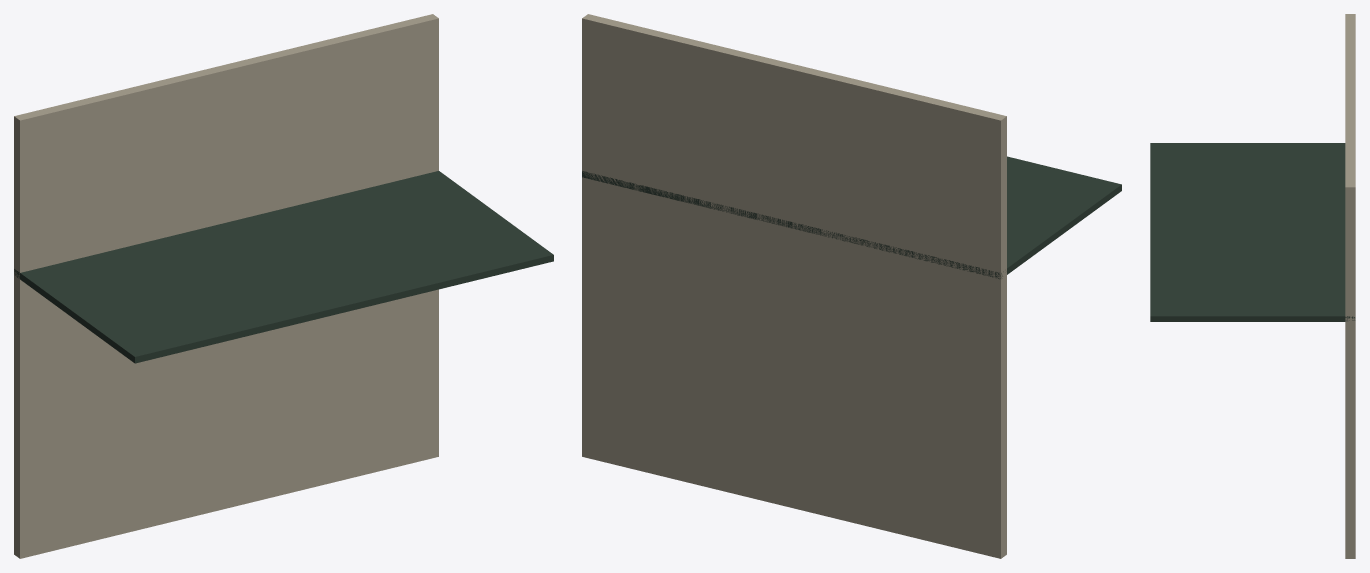
Rendered from holiday-scene.glb.
The picture shows the model from 3 angles, left to right: view 1: azimuth 30°, elevation 25°; view 2: azimuth 150°, elevation 25°; view 3: azimuth 270°, elevation 25°; orthographic projection. The views are drawn at different scales.
Parts seen in each view (by area): view 1: Stone table, Backdrop; view 2: Stone table, Backdrop; view 3: Backdrop, Stone table.
Part boxes in pixels (x1,y1,x2,y2): Stone table: (14,14,438,558); Backdrop: (14,171,553,363); Stone table: (582,14,1006,558); Backdrop: (582,156,1121,279); Backdrop: (1150,143,1355,321); Stone table: (1345,14,1355,558).
Size of the model in its own units: 2 by 2 by 1.
